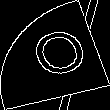O_S: (21, 25, 89, 85)
